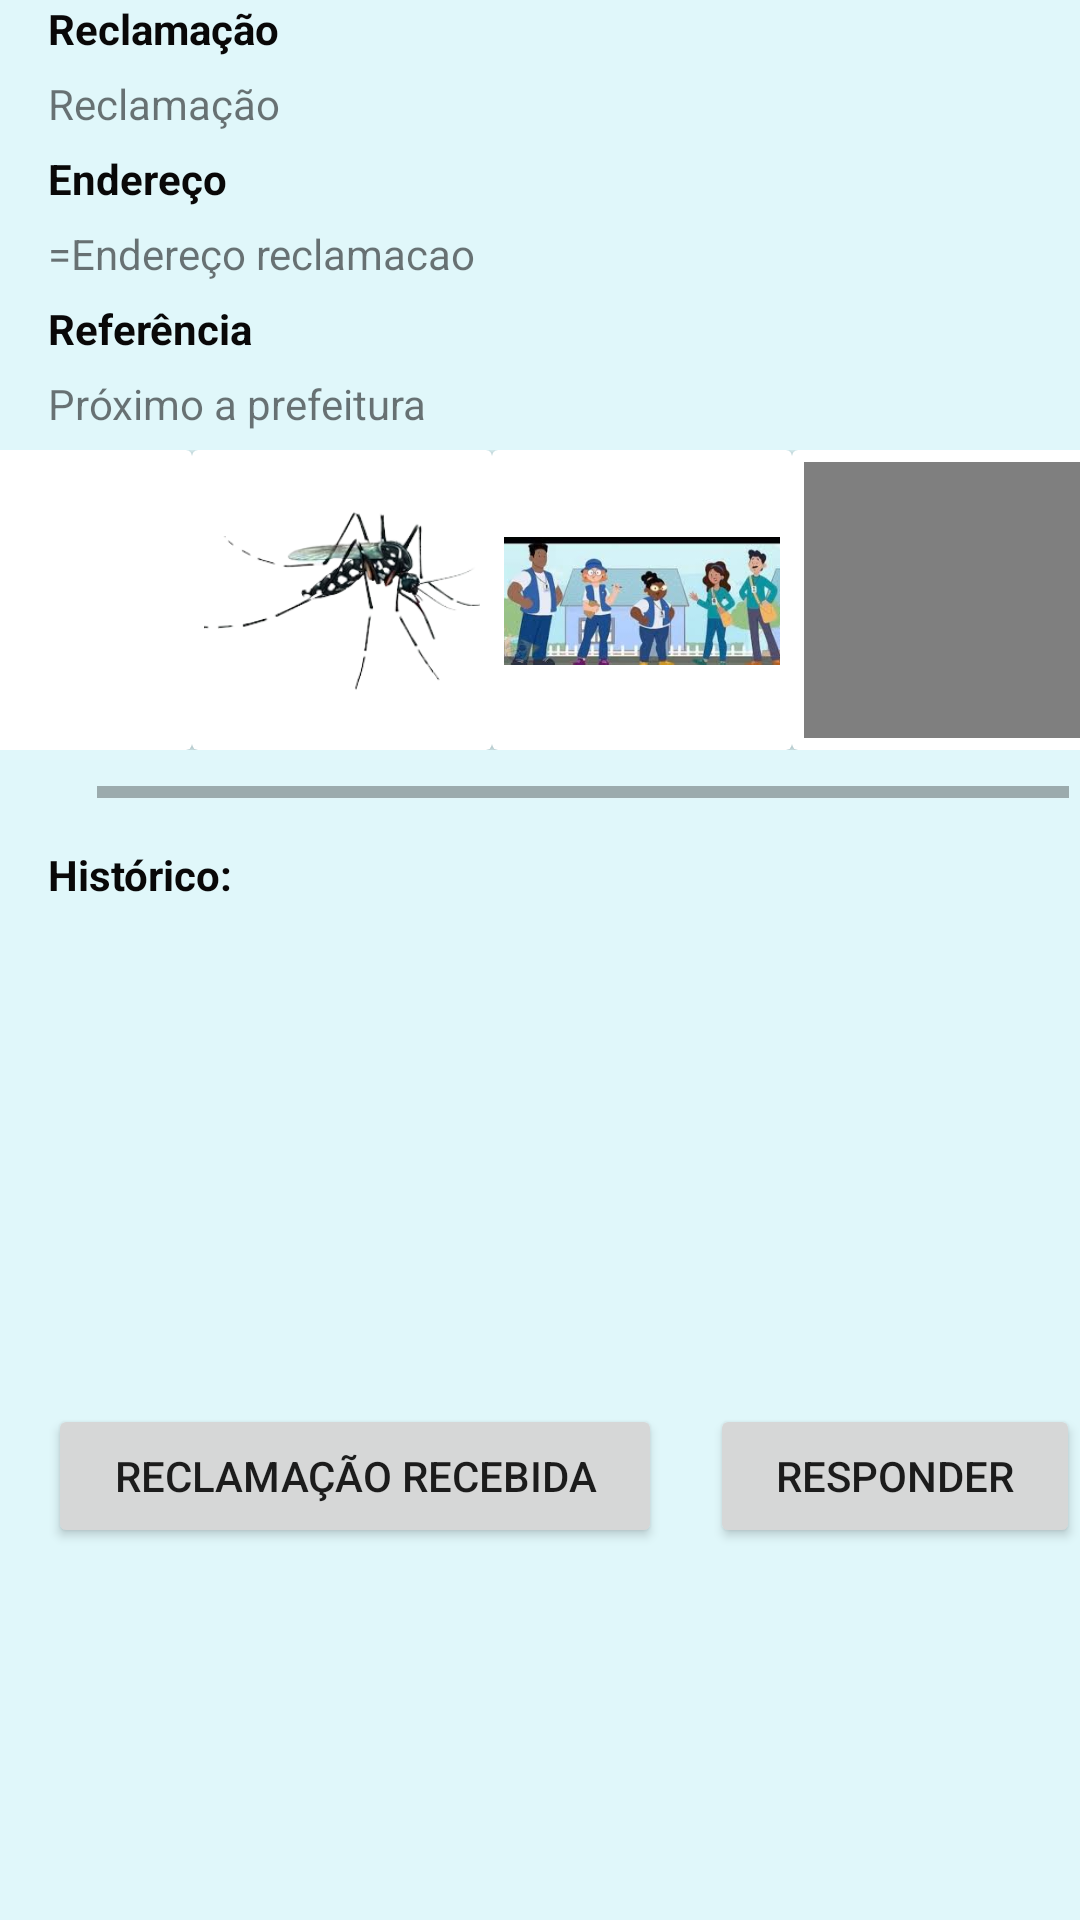

Icons on this 1080 × 1920 Android screen, each with the point to tap as [x,y]:
aedes aegypti: [342,601]
agentes: [642,601]
